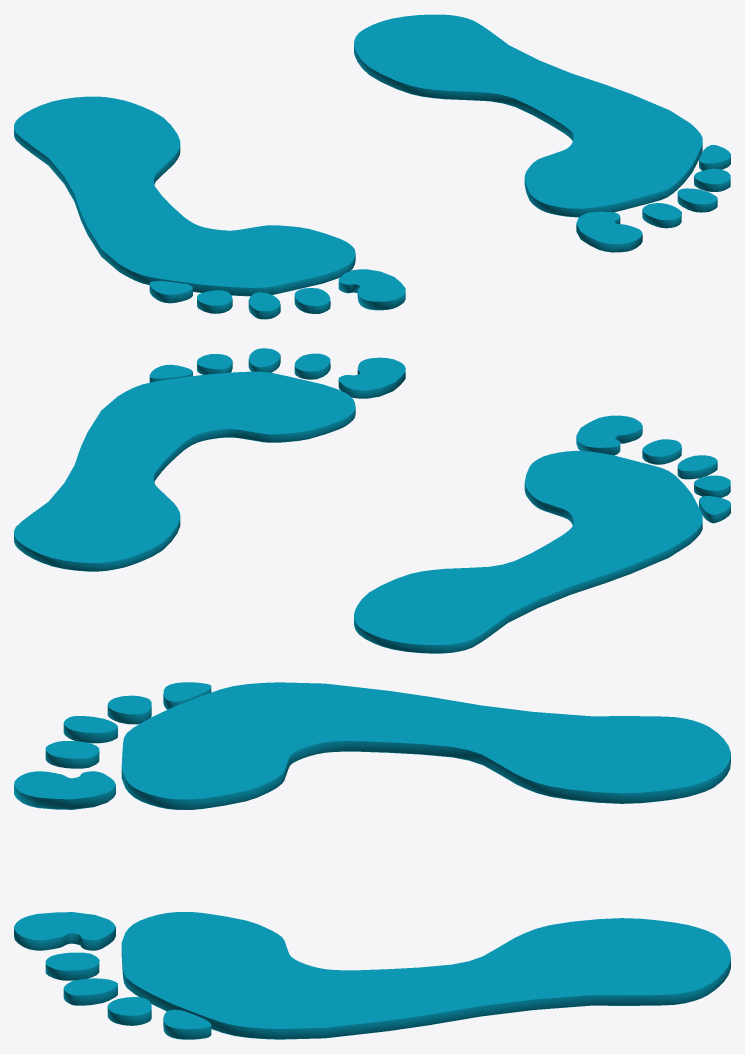
File: footprints-combined.fbx
3 views of the same model, one above another, from view 1: azimuth 30°, elevation 25°; view 2: azimuth 150°, elevation 25°; view 3: azimuth 270°, elevation 25° (orthographic). The views are drawn at different scales.
Visible parts, largest first — view 1: Object__2; view 2: Object__2; view 3: Object__2.
Part boxes in pixels (x1,y1,x2,y2): Object__2: (14,14,730,319); Object__2: (14,348,730,653); Object__2: (14,682,730,1039).
Size of the model in its own units: 0.7791 by 0.0123 by 0.6804.
